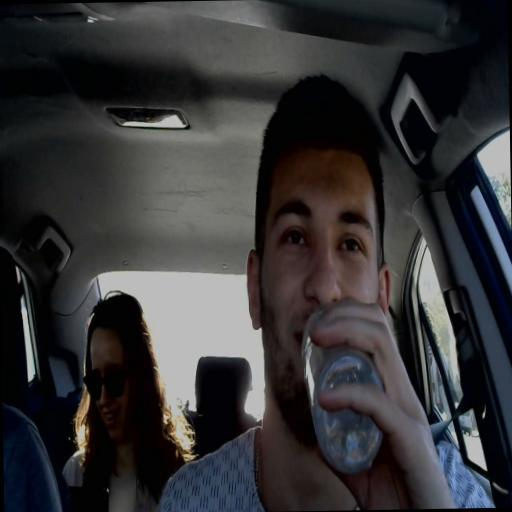Drinking: (248, 149, 393, 476)
